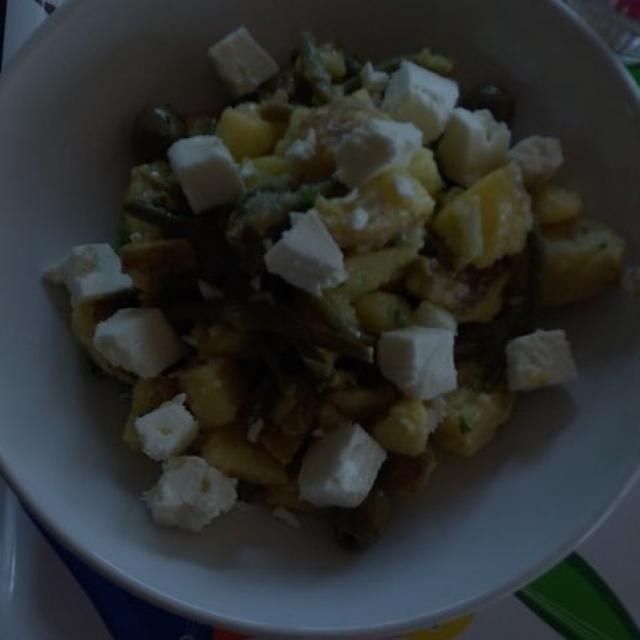cheese: (63, 29, 578, 528)
